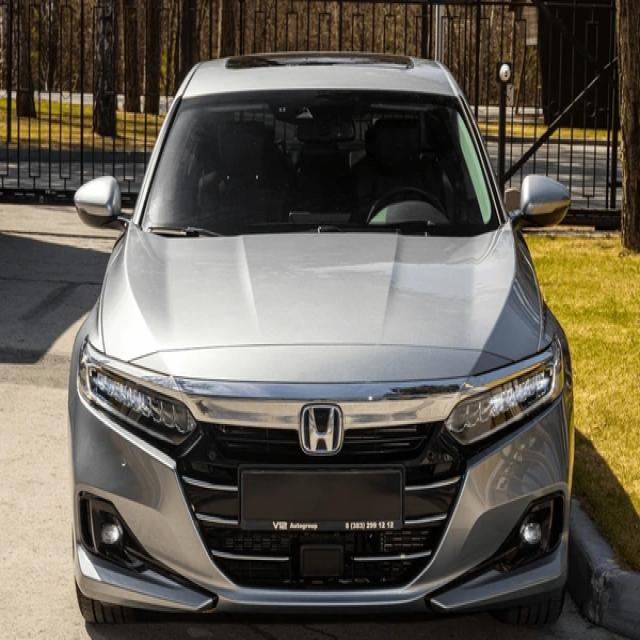honda: (299, 403, 344, 454)
